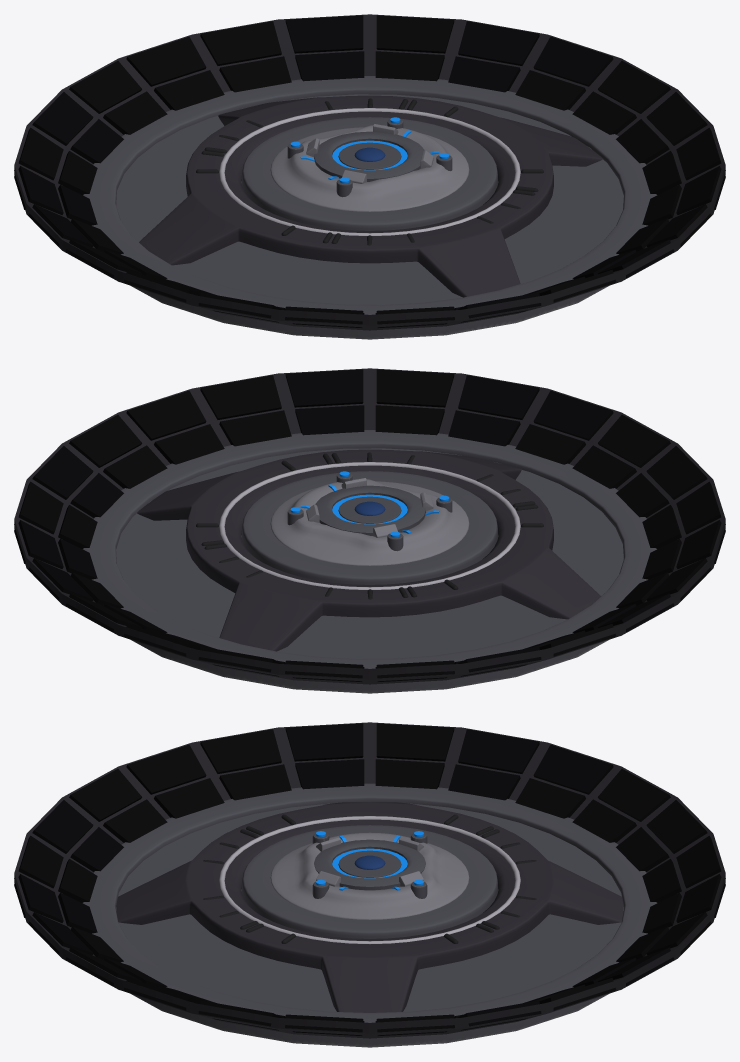
Rendered from dipan.fbx.
The picture shows the model from 3 angles, top to bottom: view 1: azimuth 30°, elevation 25°; view 2: azimuth 150°, elevation 25°; view 3: azimuth 270°, elevation 25°; orthographic projection.
Parts seen in each view (by area): view 1: polySurface40, polySurface57, polySurface58, polySurface30, pPipe6, pCylinder5, polySurface54, polySurface56, pTorus3, polySurface55, polySurface53, pCube9 (+2 smaller); view 2: polySurface40, polySurface57, polySurface58, polySurface30, pPipe6, pCylinder5, polySurface54, polySurface56, pTorus3, polySurface55, polySurface53, pCube9 (+2 smaller); view 3: polySurface40, polySurface57, polySurface58, polySurface30, pPipe6, pCylinder5, polySurface54, polySurface56, pTorus3, polySurface55, polySurface53, pCube9 (+2 smaller).
Part boxes in pixels (x1,y1,x2,y2): polySurface40: [14, 15, 725, 327]; polySurface57: [139, 95, 602, 297]; polySurface58: [116, 94, 623, 339]; polySurface30: [58, 51, 681, 314]; pPipe6: [83, 76, 657, 314]; pCylinder5: [14, 14, 725, 330]; polySurface54: [242, 117, 497, 230]; polySurface56: [270, 125, 469, 211]; pTorus3: [219, 108, 520, 235]; polySurface55: [314, 131, 424, 181]; polySurface53: [338, 142, 401, 169]; pCube9: [306, 124, 433, 183]; polySurface40: [14, 369, 725, 681]; polySurface57: [137, 449, 600, 651]; polySurface58: [116, 448, 623, 693]; polySurface30: [58, 405, 681, 668]; pPipe6: [82, 430, 656, 668]; pCylinder5: [14, 368, 725, 684]; polySurface54: [242, 471, 497, 584]; polySurface56: [270, 479, 469, 565]; pTorus3: [219, 462, 520, 589]; polySurface55: [315, 485, 425, 535]; polySurface53: [338, 496, 401, 523]; pCube9: [306, 478, 433, 537]; polySurface40: [14, 723, 725, 1035]; polySurface57: [116, 802, 623, 1012]; polySurface58: [116, 803, 623, 1047]; polySurface30: [58, 759, 681, 1022]; pPipe6: [82, 783, 657, 1022]; pCylinder5: [14, 722, 725, 1038]; polySurface54: [242, 825, 497, 938]; polySurface56: [270, 832, 469, 919]; pTorus3: [219, 816, 520, 943]; polySurface55: [314, 839, 425, 890]; polySurface53: [338, 850, 401, 877]; pCube9: [316, 837, 423, 886].
Size of the model in its own units: 1.95 by 0.2015 by 1.95.
